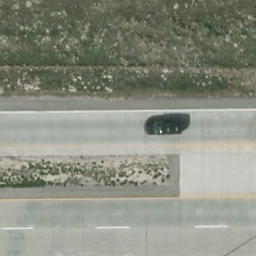car: (143, 120, 183, 136)
